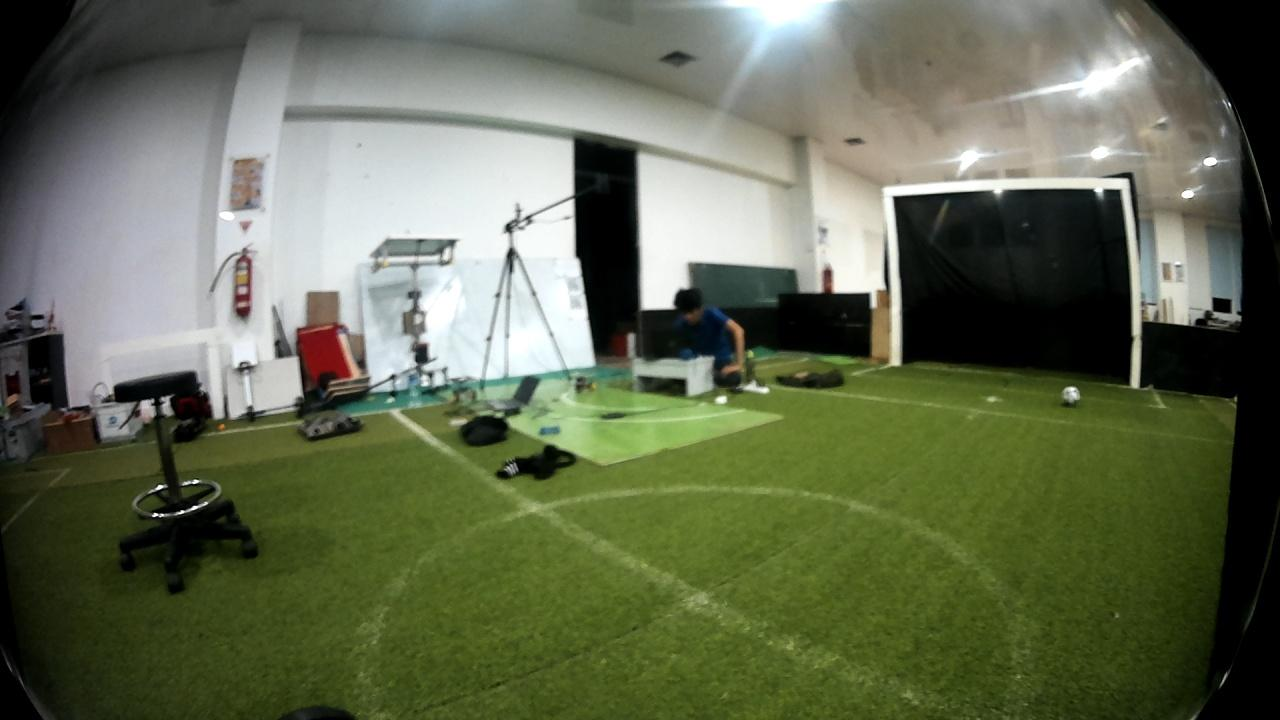ball: (1059, 383, 1085, 408)
